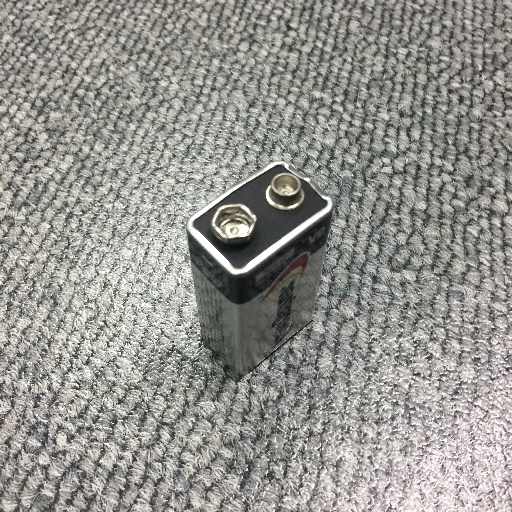Battery_3: (175, 144, 353, 395)
